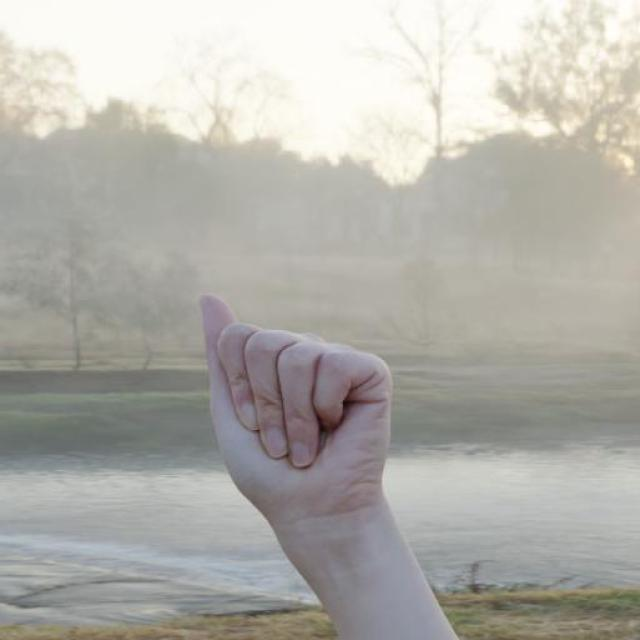A: (195, 294, 400, 532)
